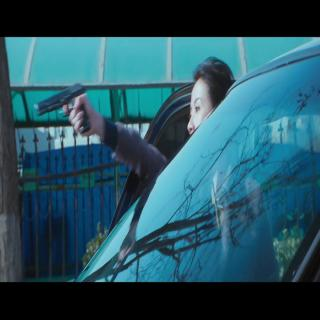gun: (34, 82, 96, 143)
